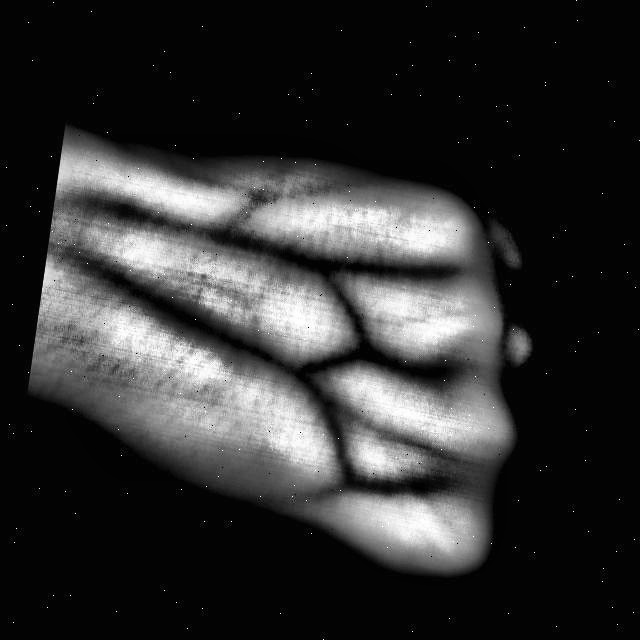Vein: (76, 249, 298, 378), (95, 190, 301, 272)
